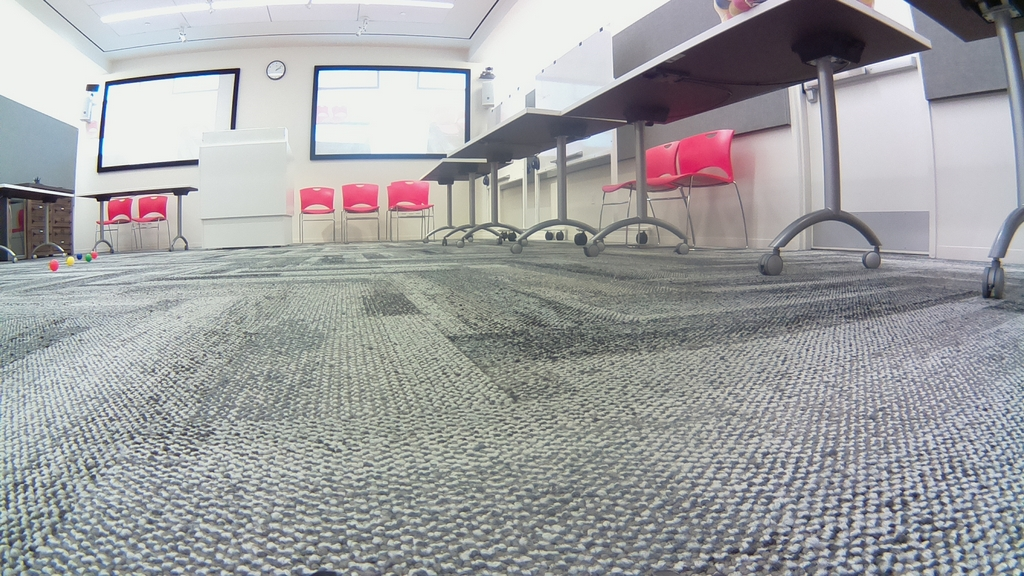ball: (85, 255, 91, 262)
